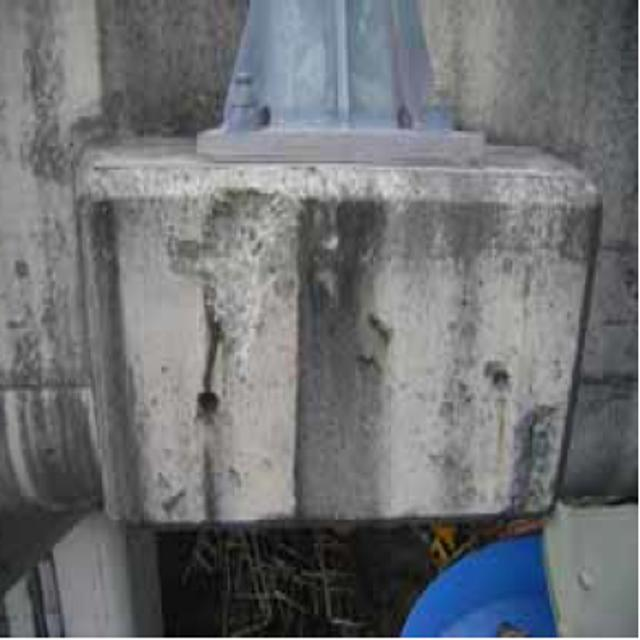spalling: (157, 160, 304, 359)
